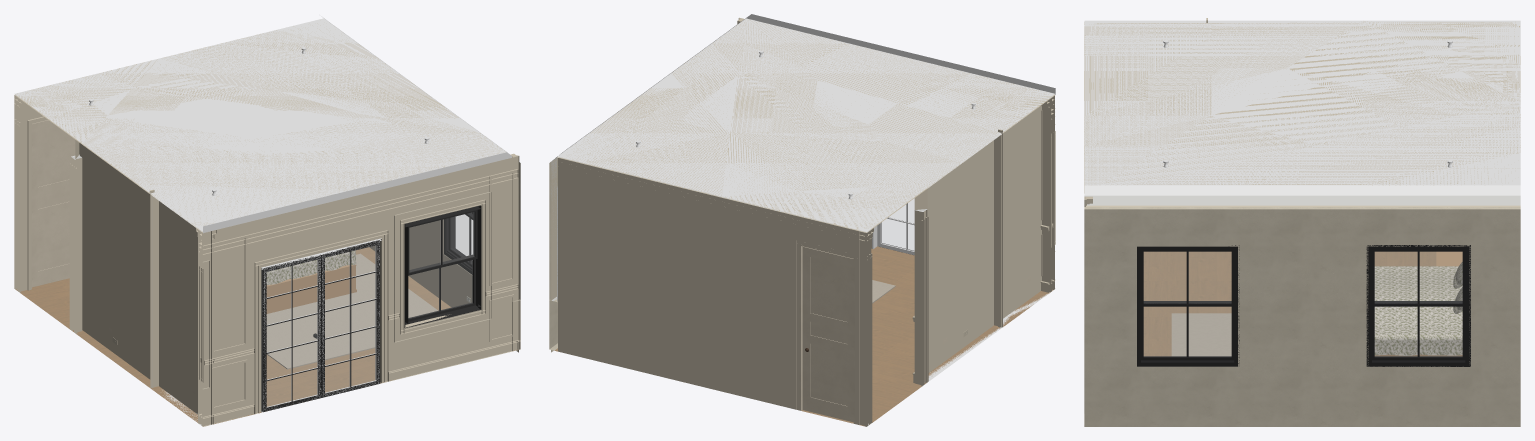
Rendered from primary-bedroom-61a30f9e0281.glb.
The picture shows the model from 3 angles, left to right: view 1: azimuth 30°, elevation 25°; view 2: azimuth 150°, elevation 25°; view 3: azimuth 270°, elevation 25°; orthographic projection. The views are drawn at different scales.
Parts seen in each view (by area): view 1: primary-bedroom-9d91b47435c6fb33, primary-bedroom-b0ade14315e4f1c3, primary-bedroom-e8793759323e04f0, primary-bedroom-0987656e6ddb83c1, primary-bedroom-fc6585fecfaf7ec3, primary-bedroom-e1735639a83d20d7, primary-bedroom-c791a0f218fead78, primary-bedroom-b0dbeb16b2b245ed, primary-bedroom-2575515a05775d9e, primary-bedroom-b7a870a0f6b43c8c, primary-bedroom-b5339e4b2b15762b, primary-bedroom-16d9002bc6318568 (+16 smaller); view 2: primary-bedroom-9d91b47435c6fb33, primary-bedroom-21ac2ed1b4475155, primary-bedroom-e8793759323e04f0, primary-bedroom-fc6585fecfaf7ec3, primary-bedroom-b7a870a0f6b43c8c, primary-bedroom-c791a0f218fead78, primary-bedroom-2575515a05775d9e, primary-bedroom-b0ade14315e4f1c3, primary-bedroom-9ecc0d558be1c706, primary-bedroom-0987656e6ddb83c1, primary-bedroom-780708765654f3c3, primary-bedroom-30f9d475162e2dd8 (+2 smaller); view 3: primary-bedroom-9d91b47435c6fb33, primary-bedroom-adb6f49a6d2cbec3, primary-bedroom-e8793759323e04f0, primary-bedroom-16d9002bc6318568, primary-bedroom-91f952a1d198b4a4, primary-bedroom-f5a37a5545b9d676, primary-bedroom-2575515a05775d9e, primary-bedroom-f68692b01f69d797, primary-bedroom-791abe15be22adf2, primary-bedroom-b0dbeb16b2b245ed, primary-bedroom-30f9d475162e2dd8.
Part boxes in pixels (x1,y1,x2,y2): primary-bedroom-9d91b47435c6fb33: (14, 18, 511, 232); primary-bedroom-b0ade14315e4f1c3: (198, 155, 519, 426); primary-bedroom-e8793759323e04f0: (17, 16, 511, 231); primary-bedroom-0987656e6ddb83c1: (261, 238, 381, 412); primary-bedroom-fc6585fecfaf7ec3: (75, 140, 158, 387); primary-bedroom-e1735639a83d20d7: (404, 205, 481, 328); primary-bedroom-c791a0f218fead78: (151, 194, 211, 425); primary-bedroom-b0dbeb16b2b245ed: (266, 253, 437, 369); primary-bedroom-2575515a05775d9e: (15, 247, 518, 426); primary-bedroom-b7a870a0f6b43c8c: (32, 120, 75, 287); primary-bedroom-b5339e4b2b15762b: (202, 169, 518, 254); primary-bedroom-16d9002bc6318568: (369, 227, 520, 349); primary-bedroom-9d91b47435c6fb33: (557, 18, 1055, 232); primary-bedroom-21ac2ed1b4475155: (558, 157, 871, 426); primary-bedroom-e8793759323e04f0: (561, 14, 1055, 229); primary-bedroom-fc6585fecfaf7ec3: (914, 134, 1002, 382); primary-bedroom-b7a870a0f6b43c8c: (802, 246, 853, 422); primary-bedroom-c791a0f218fead78: (994, 106, 1052, 327); primary-bedroom-2575515a05775d9e: (551, 246, 1053, 426); primary-bedroom-b0ade14315e4f1c3: (738, 17, 1054, 292); primary-bedroom-9ecc0d558be1c706: (914, 209, 927, 384); primary-bedroom-0987656e6ddb83c1: (872, 199, 914, 255); primary-bedroom-780708765654f3c3: (799, 244, 854, 423); primary-bedroom-30f9d475162e2dd8: (550, 158, 556, 300); primary-bedroom-9d91b47435c6fb33: (1084, 20, 1520, 195); primary-bedroom-adb6f49a6d2cbec3: (1084, 207, 1520, 367); primary-bedroom-e8793759323e04f0: (1084, 21, 1520, 194); primary-bedroom-16d9002bc6318568: (1086, 367, 1520, 424); primary-bedroom-91f952a1d198b4a4: (1366, 245, 1470, 366); primary-bedroom-f5a37a5545b9d676: (1137, 245, 1239, 366); primary-bedroom-2575515a05775d9e: (1084, 251, 1520, 426); primary-bedroom-f68692b01f69d797: (1374, 266, 1462, 355); primary-bedroom-791abe15be22adf2: (1084, 195, 1520, 205); primary-bedroom-b0dbeb16b2b245ed: (1171, 313, 1231, 356); primary-bedroom-30f9d475162e2dd8: (1086, 205, 1520, 206).
Size of the model in its own units: 4.97 by 3.04 by 5.11.
Materials: 32 (6 with a texture image).
